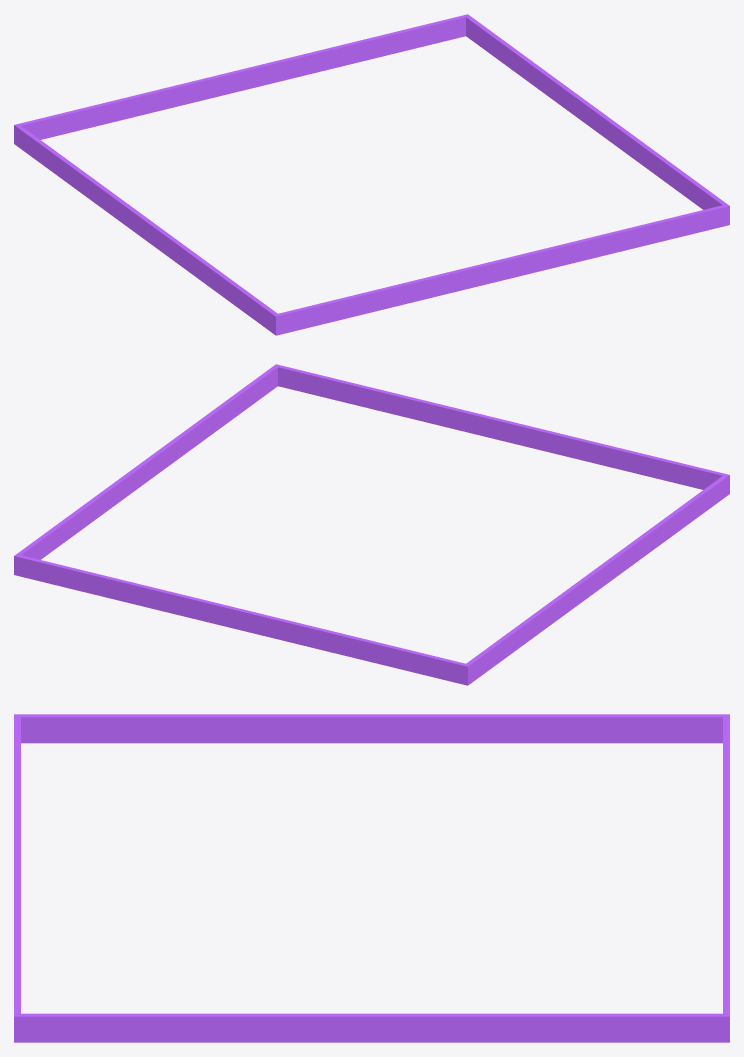
File: contours.glb
3 views of the same model, one above another, from view 1: azimuth 30°, elevation 25°; view 2: azimuth 150°, elevation 25°; view 3: azimuth 270°, elevation 25° (orthographic). The views are drawn at different scales.
Parts seen in each view (by area): view 1: Box_2, Box_3, Box_4, Box_1; view 2: Box_3, Box_2, Box_4, Box_1; view 3: Box_1, Box_4, Box_2, Box_3.
Boxes of the visible parts, bbox=[...] form: Box_2: bbox=[273, 205, 729, 335]; Box_3: bbox=[14, 14, 468, 145]; Box_4: bbox=[14, 124, 280, 334]; Box_1: bbox=[464, 14, 729, 225]; Box_3: bbox=[14, 555, 470, 685]; Box_2: bbox=[276, 365, 729, 495]; Box_4: bbox=[463, 474, 729, 684]; Box_1: bbox=[14, 364, 279, 575]; Box_1: bbox=[14, 1013, 729, 1042]; Box_4: bbox=[17, 714, 722, 743]; Box_2: bbox=[14, 714, 20, 1042]; Box_3: bbox=[723, 714, 729, 1042].
Size of the model in its own units: 10 by 0.4 by 10.
